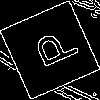P: (24, 25, 81, 74)
